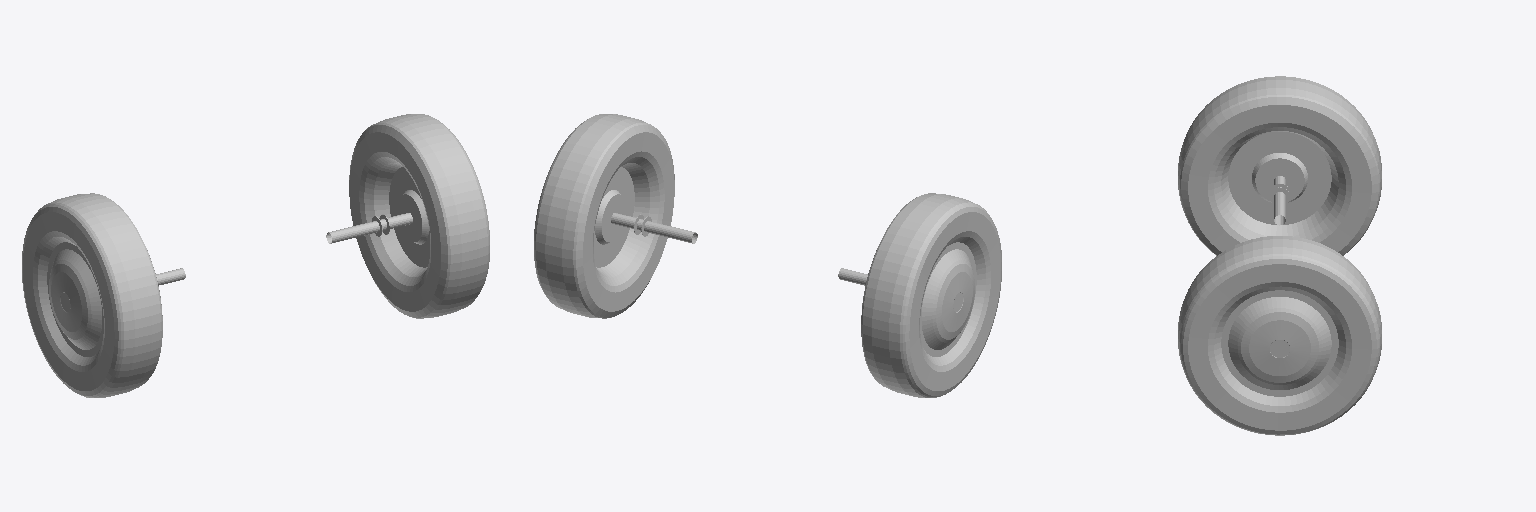
File: llantasvocho.obj
The picture shows the model from 3 angles: view 1: azimuth 30°, elevation 25°; view 2: azimuth 150°, elevation 25°; view 3: azimuth 270°, elevation 25°; orthographic projection.
Parts seen in each view (by area): view 1: VW_Beetle.073_Cube.073; view 2: VW_Beetle.073_Cube.073; view 3: VW_Beetle.073_Cube.073.
Part boxes in pixels (left/top/right/bottom): VW_Beetle.073_Cube.073: left=22, top=114, right=489, bottom=397; VW_Beetle.073_Cube.073: left=534, top=114, right=1001, bottom=397; VW_Beetle.073_Cube.073: left=1178, top=76, right=1381, bottom=435.
Bounding box in the file's own units: 1.43 × 0.6647 × 0.6647.